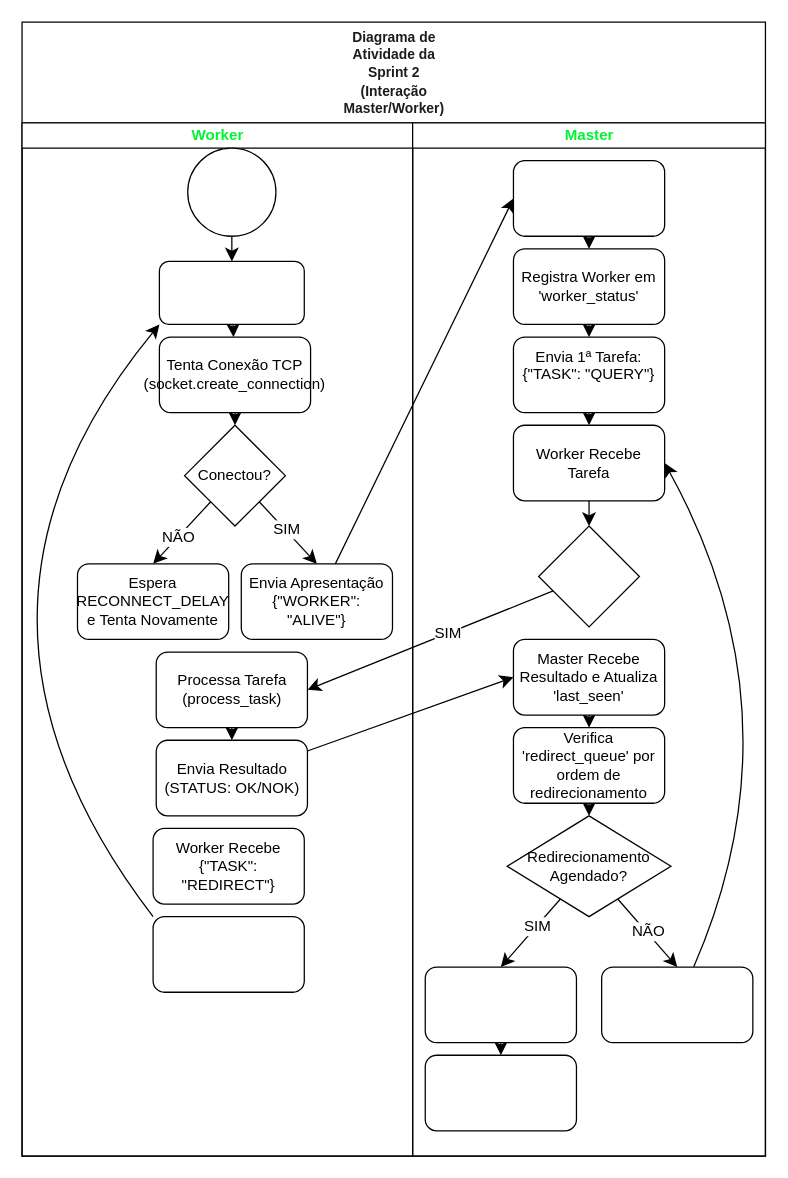
Image size: 788x1178. Some labels were removed from this diagram. The shapes that lost their labels are listed below. From the top down, each one's centre as x and y in pixels, then its label:
(x=231, y=191): Início: Worker
(x=588, y=197): Master Recebe {"WORKER": "ALIVE"}
(x=231, y=292): Obtém Master (Home/Current)
(x=588, y=576): TASK == "QUERY"?
(x=228, y=953): Atualiza 'current_master' e Encerra Conexão
(x=500, y=1004): Envia Comando {"TASK": "REDIRECT", ...}
(x=676, y=1004): Envia Próxima Tarefa: {"TASK": "QUERY"}
(x=500, y=1092): Remove Ordem da Fila e Encerra Conexão
